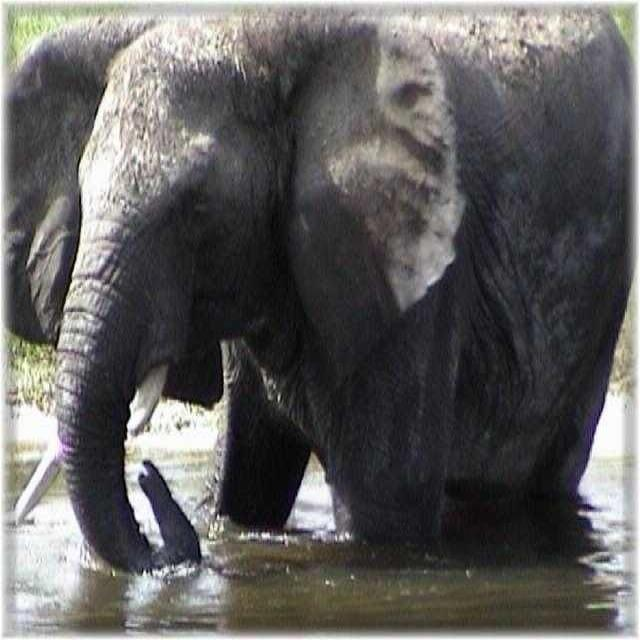Elephant: (38, 4, 635, 576)
